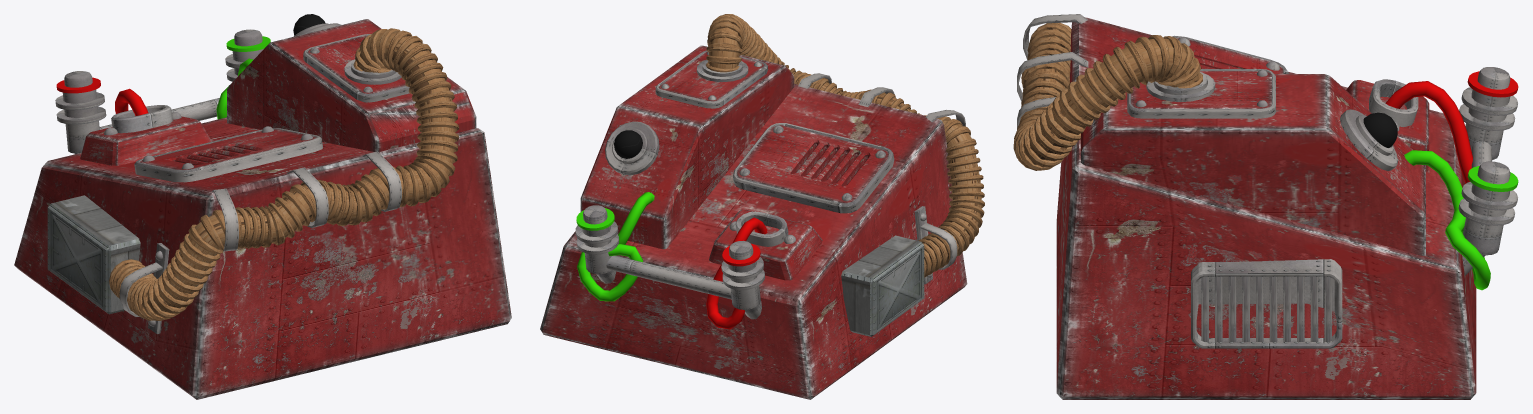
The model's file is static.fbx.
The picture shows the model from 3 angles, left to right: view 1: azimuth 30°, elevation 25°; view 2: azimuth 150°, elevation 25°; view 3: azimuth 270°, elevation 25°; orthographic projection. The views are drawn at different scales.
Visible parts, largest first — view 1: Cube_10, Cube_9, Cube_5, Sweep_12, Cube_7, Sweep_5, Cube_Null, Cube_3, Cylinder_2_2, Sweep_7, Sweep_4, Sweep_9 (+8 smaller); view 2: Cube_10, Cube_9, Cube_Null, Cube_5, Cube_7, Sweep_12, Sweep_5, Sweep_1, Cylinder, Cube_3, Cylinder_4_3, Sweep (+16 smaller); view 3: Cube_10, Cube_9, Cube, Sweep_12, Cube_3, Sweep_1, Sweep, Sweep_4, Cylinder_3_3, Cube_7, Cube_Null, Cylinder_2_2 (+25 smaller).
Boxes of the visible parts, box(x1,y1,x2,y2) form: Cube_10: box(14, 117, 511, 399); Cube_9: box(227, 19, 476, 151); Cube_5: box(47, 195, 140, 314); Sweep_12: box(117, 32, 455, 314); Cube_7: box(80, 116, 211, 165); Sweep_5: box(134, 128, 323, 182); Cube_Null: box(139, 129, 316, 169); Cube_3: box(307, 35, 405, 93); Cylinder_2_2: box(62, 89, 99, 153); Sweep_7: box(111, 105, 172, 133); Sweep_4: box(303, 34, 409, 102); Sweep_9: box(212, 188, 238, 251); Cube_10: box(540, 84, 967, 399); Cube_9: box(580, 45, 794, 249); Cube_Null: box(737, 125, 888, 203); Cube_5: box(841, 235, 924, 336); Cube_7: box(709, 209, 822, 280); Sweep_12: box(708, 21, 981, 269); Sweep_5: box(733, 123, 894, 213); Sweep_1: box(577, 192, 654, 301); Cylinder: box(606, 255, 731, 299); Cube_3: box(659, 51, 764, 101); Cylinder_4_3: box(605, 121, 659, 175); Sweep: box(706, 217, 767, 329); Cube_10: box(1056, 17, 1476, 399); Cube_9: box(1081, 74, 1425, 255); Cube: box(1191, 259, 1342, 348); Sweep_12: box(1024, 29, 1198, 164); Cube_3: box(1131, 71, 1271, 108); Sweep_1: box(1404, 150, 1490, 290); Sweep: box(1385, 81, 1472, 183); Sweep_4: box(1127, 69, 1275, 118); Cylinder_3_3: box(1463, 184, 1510, 255); Cube_7: box(1346, 80, 1429, 172); Cube_Null: box(1177, 38, 1283, 73); Cylinder_2_2: box(1465, 89, 1510, 160).
Bounding box in the file's own units: 192 × 146 × 207.
8 materials, 8 textured.
